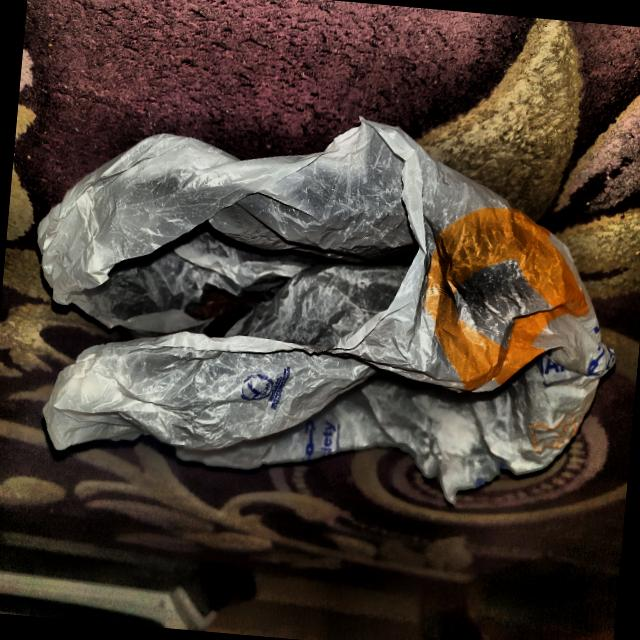plastic bag: (6, 80, 640, 524)
